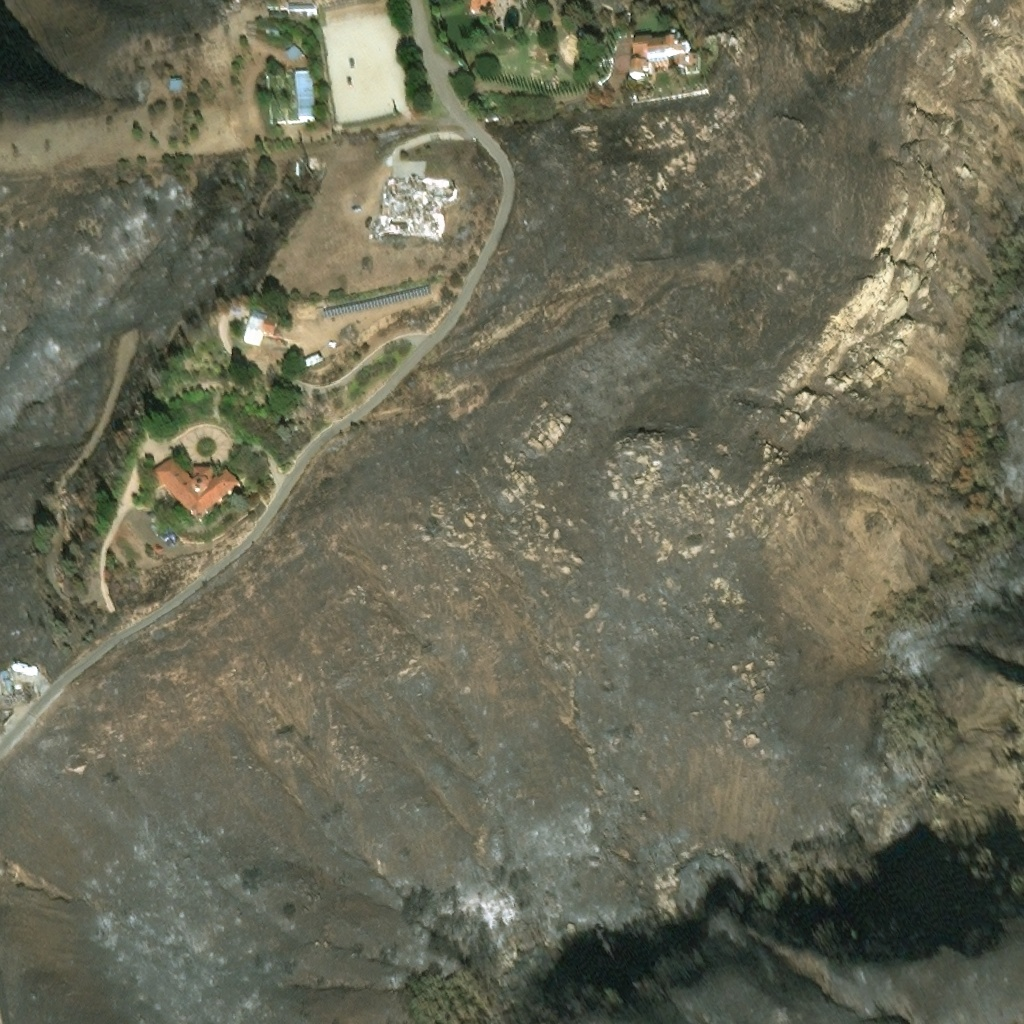0 no-damage: (152, 455, 241, 523), (628, 32, 701, 80), (292, 68, 314, 117), (241, 310, 266, 345), (286, 2, 316, 16), (213, 0, 238, 14), (468, 0, 495, 12), (284, 41, 301, 59), (303, 353, 321, 367), (266, 367, 283, 379), (265, 8, 286, 16), (261, 322, 274, 334), (264, 29, 278, 37), (245, 25, 254, 36), (147, 510, 155, 519), (327, 340, 335, 346)
3 destroyed: (381, 183, 451, 236), (391, 181, 458, 203), (381, 217, 443, 240), (382, 181, 394, 216), (436, 200, 456, 208)
4 un-classified: (11, 661, 36, 674), (22, 684, 29, 700)
